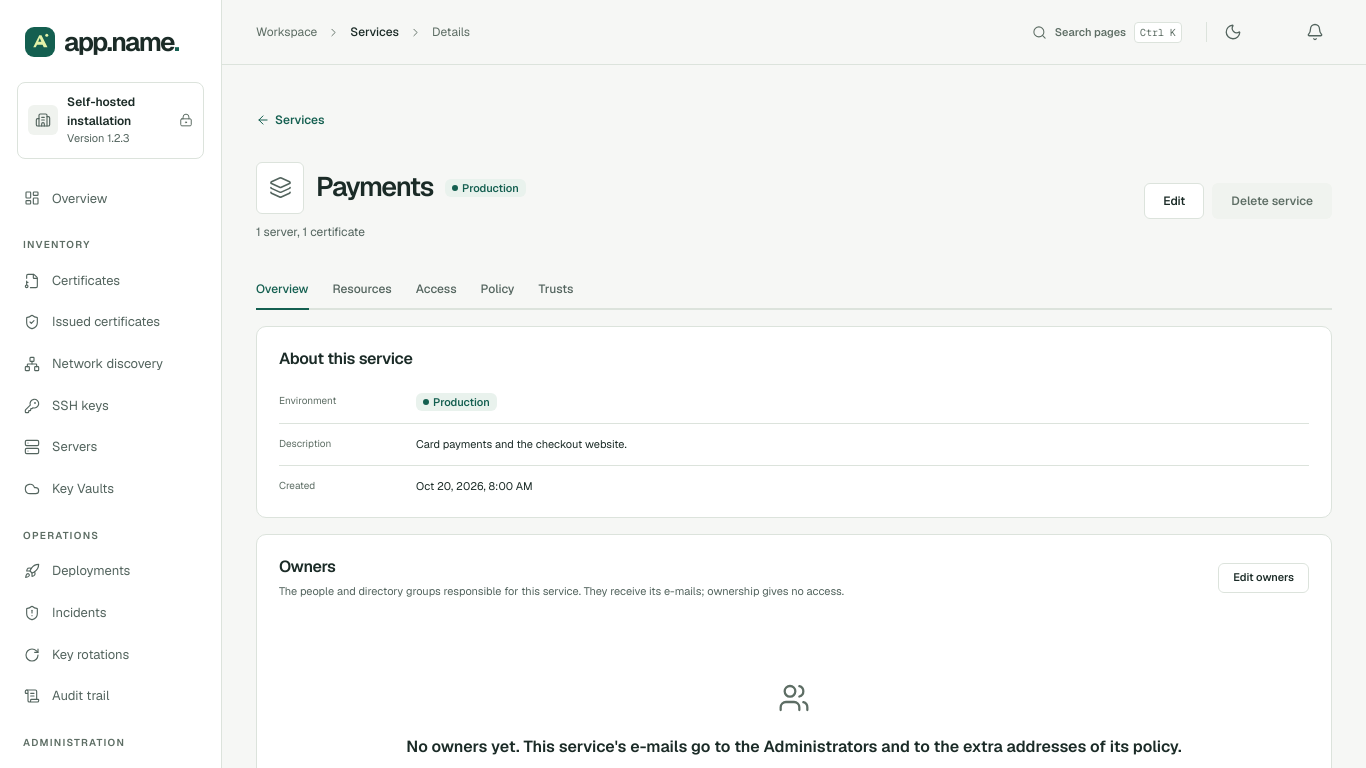
Test: ServicePage › lets an Administrator edit the service with its version
This screenshot has width=1366, height=768.
Click the button "Edit" at (1174, 201), box [1144,183,1204,219]
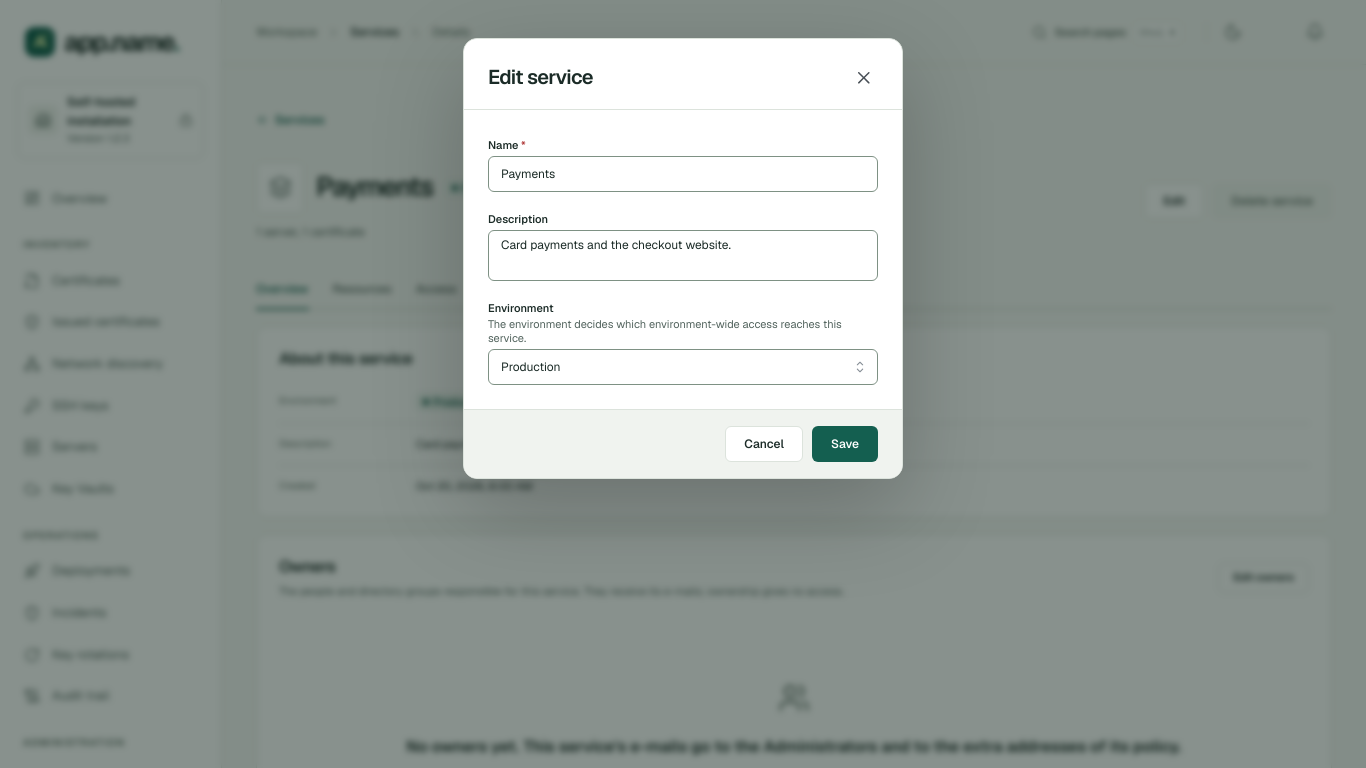
Replace the text in the field labelled "Name *" with "Payments EU" at (683, 174), box [488,156,878,192]
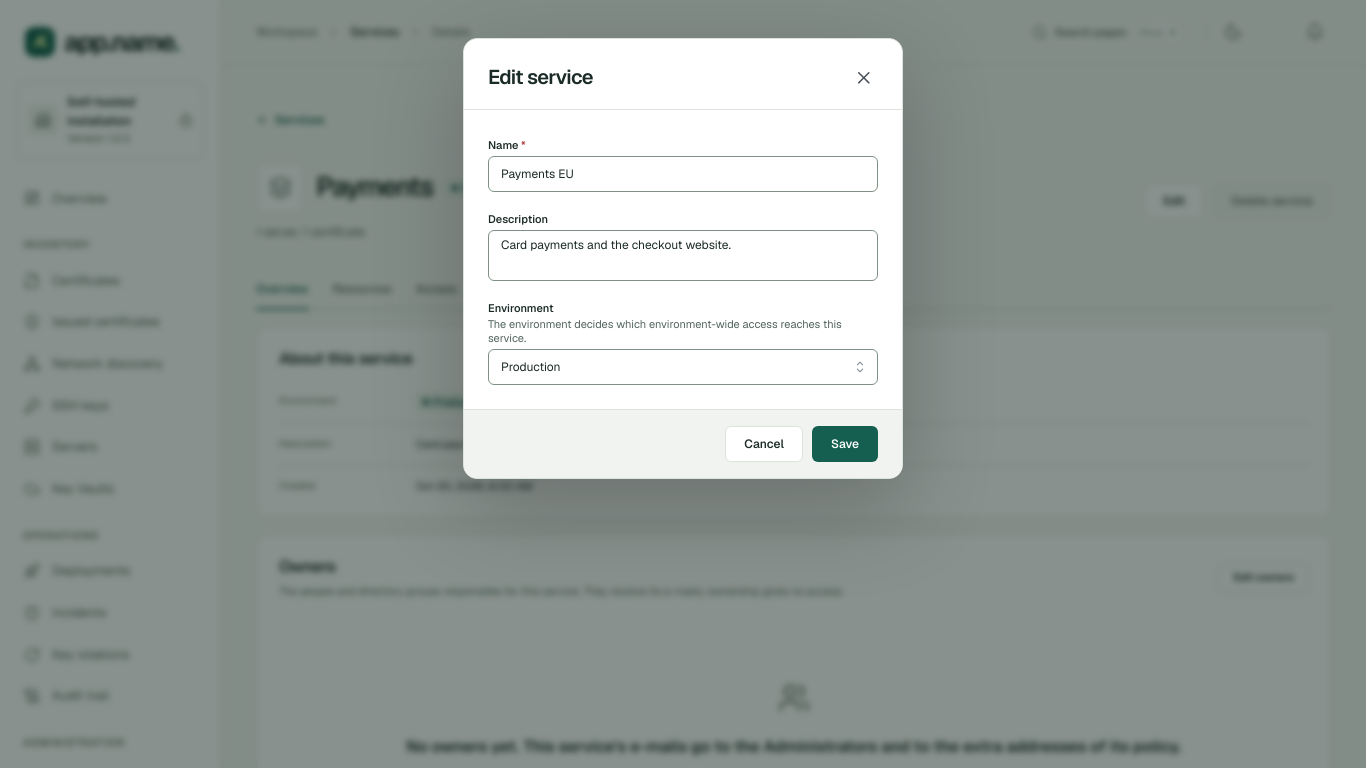
Click the button "Save" at (845, 444), box [812,426,878,462]
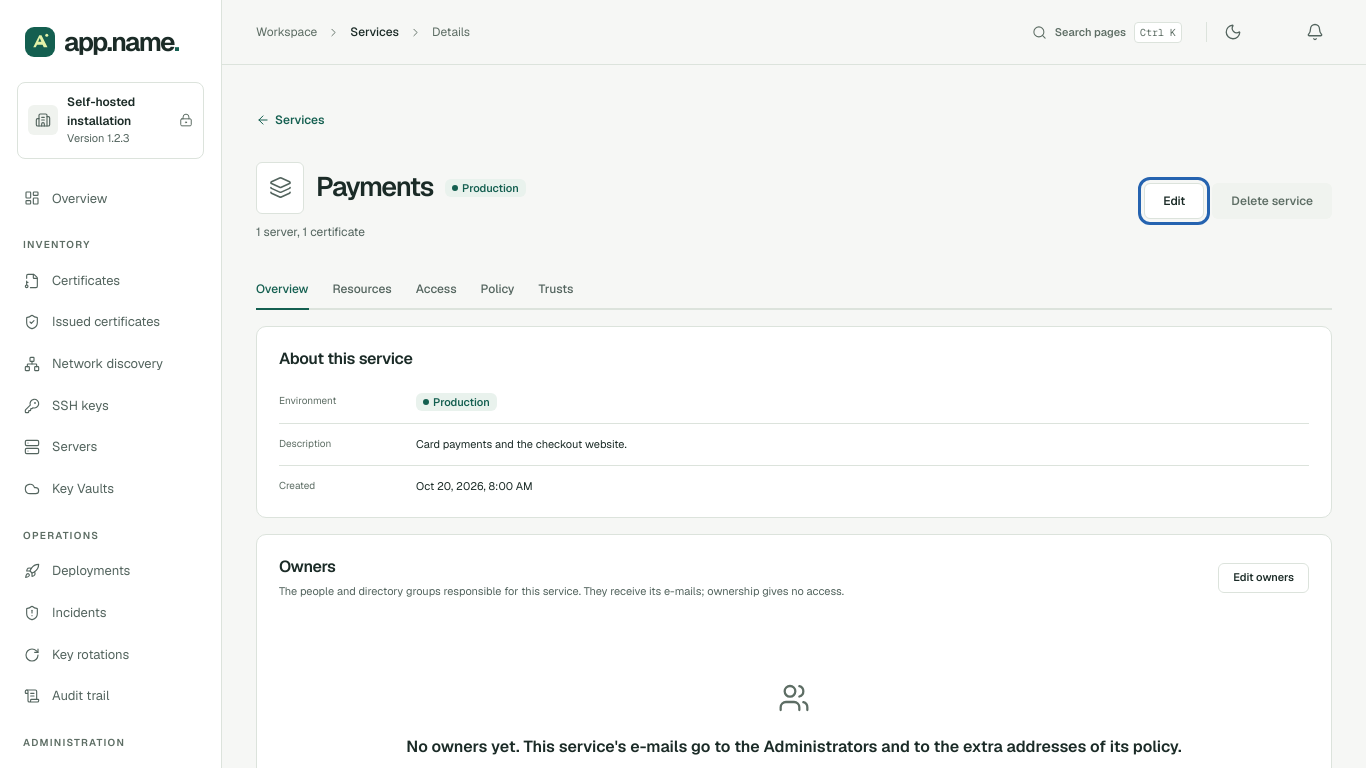
expect the dialog is gone: met
